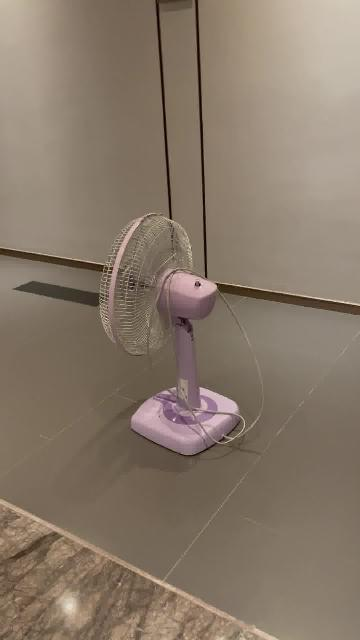Fan: (99, 214, 243, 457)
